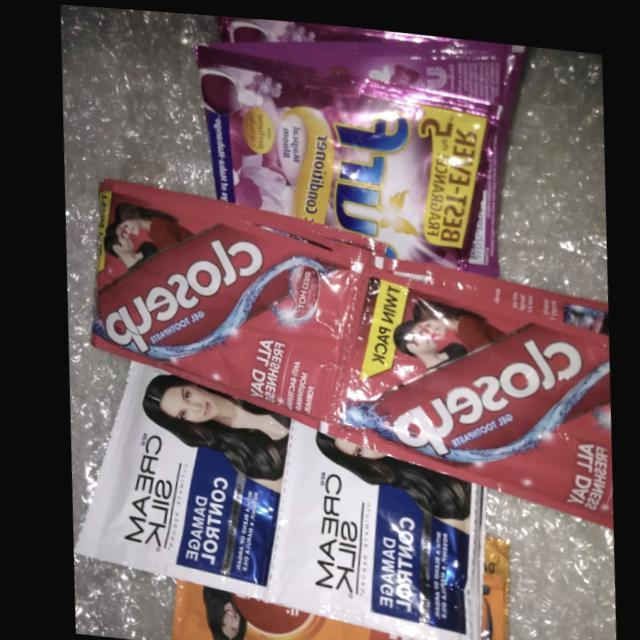wrapper: (320, 258, 608, 519), (198, 44, 502, 270), (86, 179, 355, 429), (69, 360, 291, 596), (258, 418, 479, 640), (207, 13, 524, 160), (164, 576, 428, 640)
